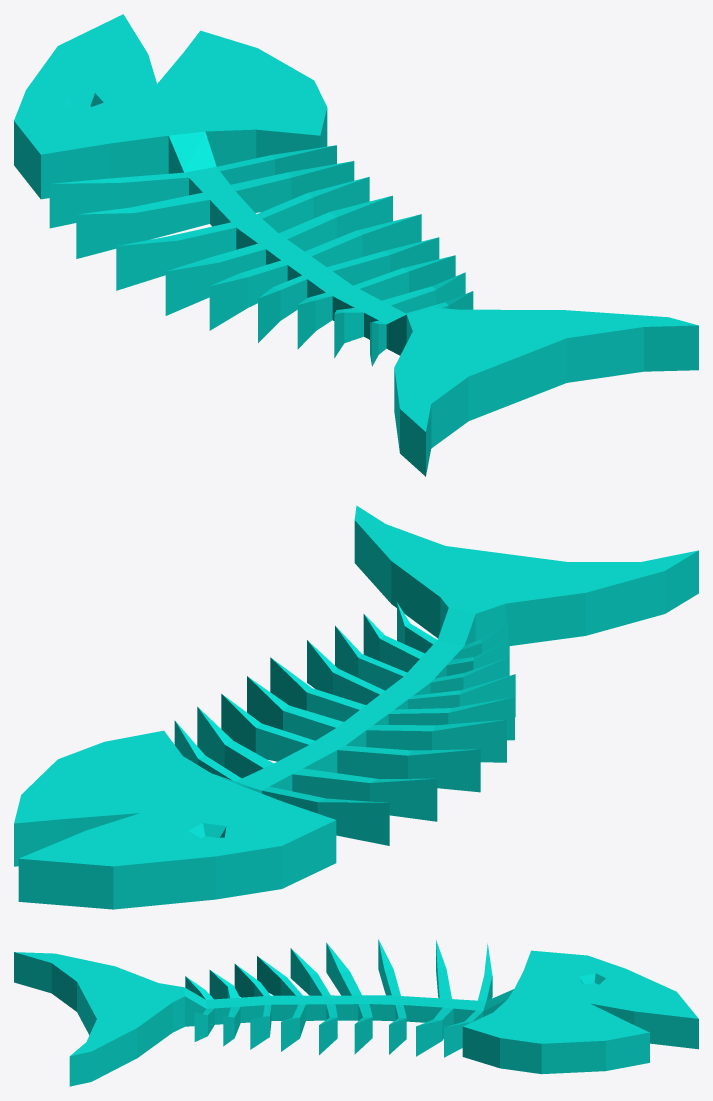
File: CKSoapDish.dae
3 renders of one model, top to bottom at view 1: azimuth 30°, elevation 25°; view 2: azimuth 150°, elevation 25°; view 3: azimuth 270°, elevation 25°, orthographic. The views are drawn at different scales.
Parts seen in each view (by area): view 1: Plane_006; view 2: Plane_006; view 3: Plane_006.
Boxes of the visible parts, <box> form: Plane_006: <box>14,14,698,476</box>; Plane_006: <box>14,505,698,909</box>; Plane_006: <box>14,939,698,1086</box>.
Size of the model in its own units: 2.5 by 6.13 by 0.3.
Materials: 1 (1 with a texture image).
